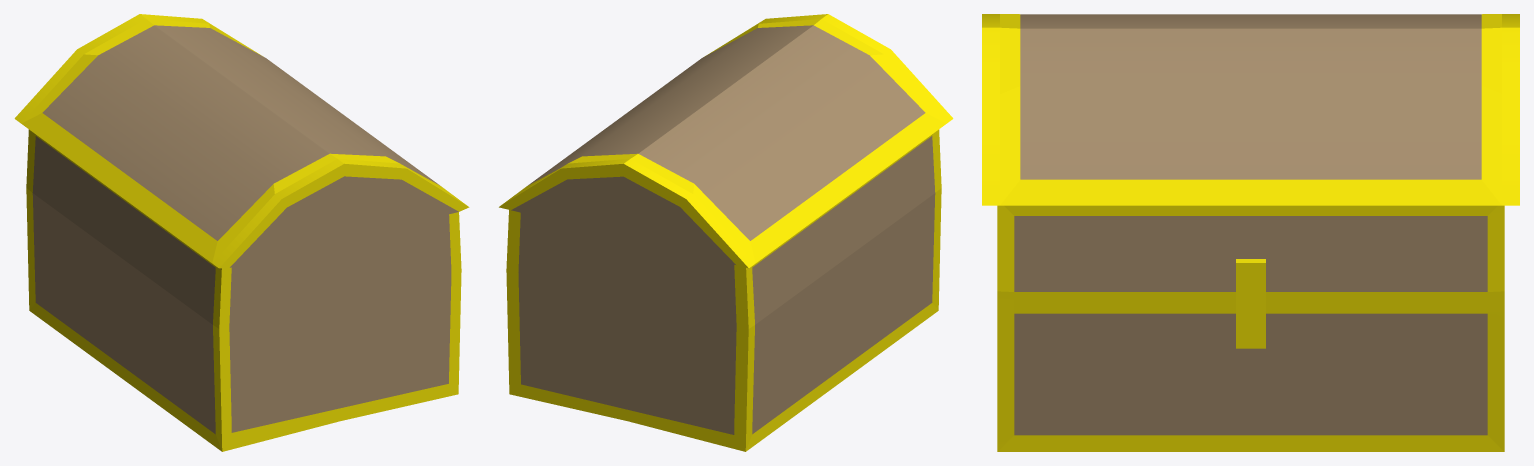
Rendered from cesta.fbx.
The picture shows the model from 3 angles, left to right: view 1: azimuth 30°, elevation 25°; view 2: azimuth 150°, elevation 25°; view 3: azimuth 270°, elevation 25°; orthographic projection. The views are drawn at different scales.
Visible parts, largest first — view 1: pCylinder1, pCylinder2; view 2: pCylinder1, pCylinder2; view 3: pCylinder1, pCylinder2, pCube1.
Part boxes in pixels (<box>): pCylinder1: <box>26,129,461,451</box>; pCylinder2: <box>14,14,469,268</box>; pCylinder1: <box>506,129,941,451</box>; pCylinder2: <box>499,14,953,268</box>; pCylinder1: <box>997,205,1504,451</box>; pCylinder2: <box>982,14,1519,205</box>; pCube1: <box>1236,259,1265,348</box>.
Bounding box in the file's own units: 1.52 × 1.51 × 2.12.
